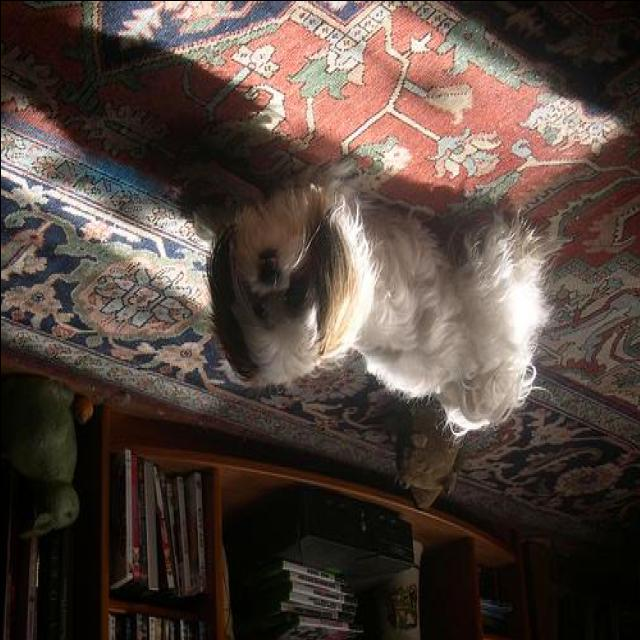shih_tzu: (190, 176, 556, 442)
